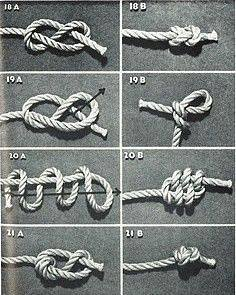9/可回收垃圾/绳子: (1, 167, 114, 216), (1, 91, 108, 137), (122, 167, 233, 208), (138, 89, 213, 147), (1, 18, 107, 56), (1, 247, 105, 282), (123, 245, 217, 273), (122, 24, 218, 48)
